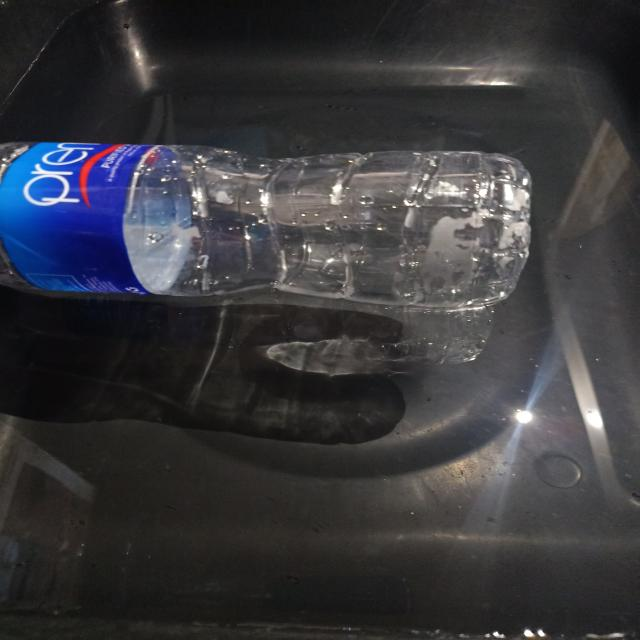Plastic Bottle: (0, 142, 531, 311)
